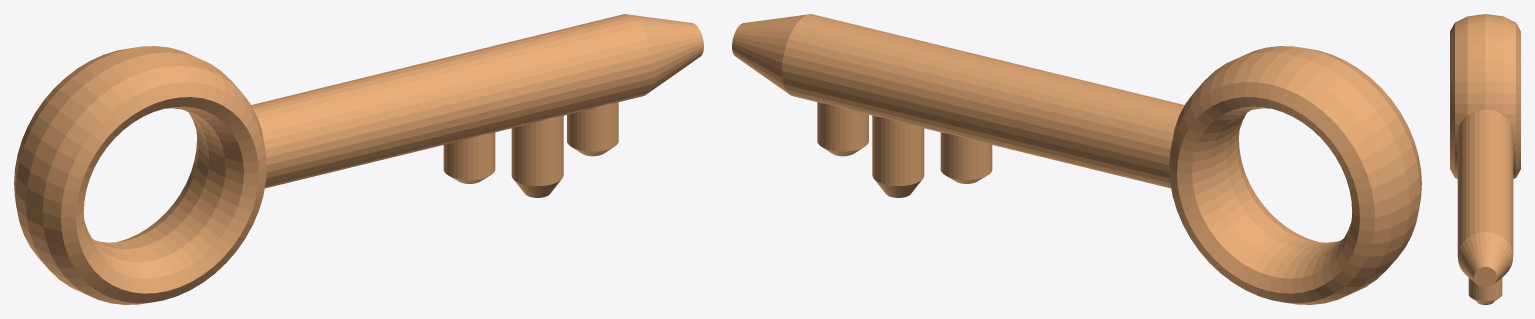
The model's file is Key.glb.
The picture shows the model from 3 angles, left to right: view 1: azimuth 30°, elevation 25°; view 2: azimuth 150°, elevation 25°; view 3: azimuth 270°, elevation 25°; orthographic projection. The views are drawn at different scales.
Parts seen in each view (by area): view 1: Cylinder.001; view 2: Cylinder.001; view 3: Cylinder.001.
Part boxes in pixels (<box>): Cylinder.001: <box>14,14,703,304</box>; Cylinder.001: <box>732,14,1421,304</box>; Cylinder.001: <box>1450,14,1520,304</box>.
Bounding box in the file's own units: 6.11 × 2.09 × 0.8558.
